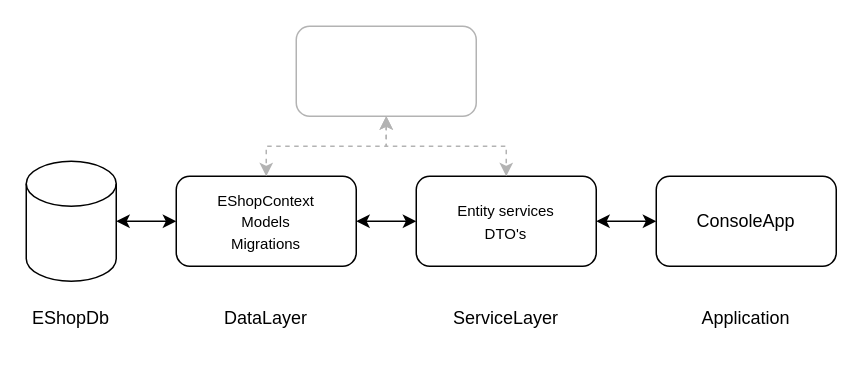
This 863x368 diagram has some shape labels left out. The shapes that lost their labels are listed below. From the top down, each one's centre as x and y in pixels, then its label:
(385,70): UnitTest
(70,220): DB
